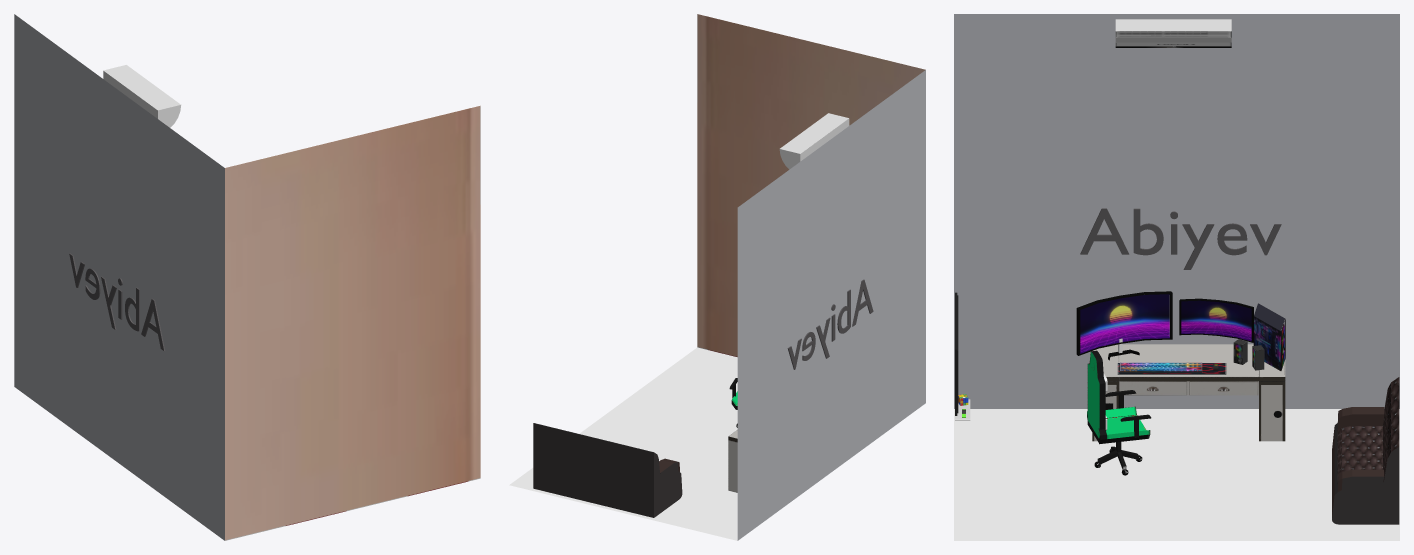
Rendered from RaOne_room.glb.
3 renders of one model, left to right at view 1: azimuth 30°, elevation 25°; view 2: azimuth 150°, elevation 25°; view 3: azimuth 270°, elevation 25°, orthographic. The views are drawn at different scales.
Visible parts, largest first — view 1: Cube.000, Cube.006, Text.002; view 2: Cube.000, Cube.007, Cube.006, Text.002, Cube.001; view 3: Cube.000, Cube.001, Cube.007, Cube.002, Cube.019, Text.002, Cube.006, Cube.002_monitor_0.001, Cube.005, Cube.004, Cube.012.
Boxes of the visible parts, x1,y1,x2,y2 form: Cube.000: (14,14,480,540); Cube.006: (103,65,180,127); Text.002: (69,253,165,351); Cube.000: (509,14,925,540); Cube.007: (533,423,682,517); Cube.006: (779,113,849,169); Text.002: (787,279,873,369); Cube.001: (728,430,737,492); Cube.000: (954,14,1399,540); Cube.001: (1092,344,1285,441); Cube.007: (1332,377,1399,524); Cube.002: (1076,291,1172,360); Cube.019: (1087,350,1151,475); Text.002: (1080,208,1281,269); Cube.006: (1115,19,1231,47); Cube.002_monitor_0.001: (1179,298,1253,342); Cube.005: (1253,303,1285,370); Cube.004: (1120,362,1202,372); Cube.012: (1233,339,1264,370).
Size of the model in its own units: 17.95 by 24.96 by 25.5.
18 materials, 14 textured.
